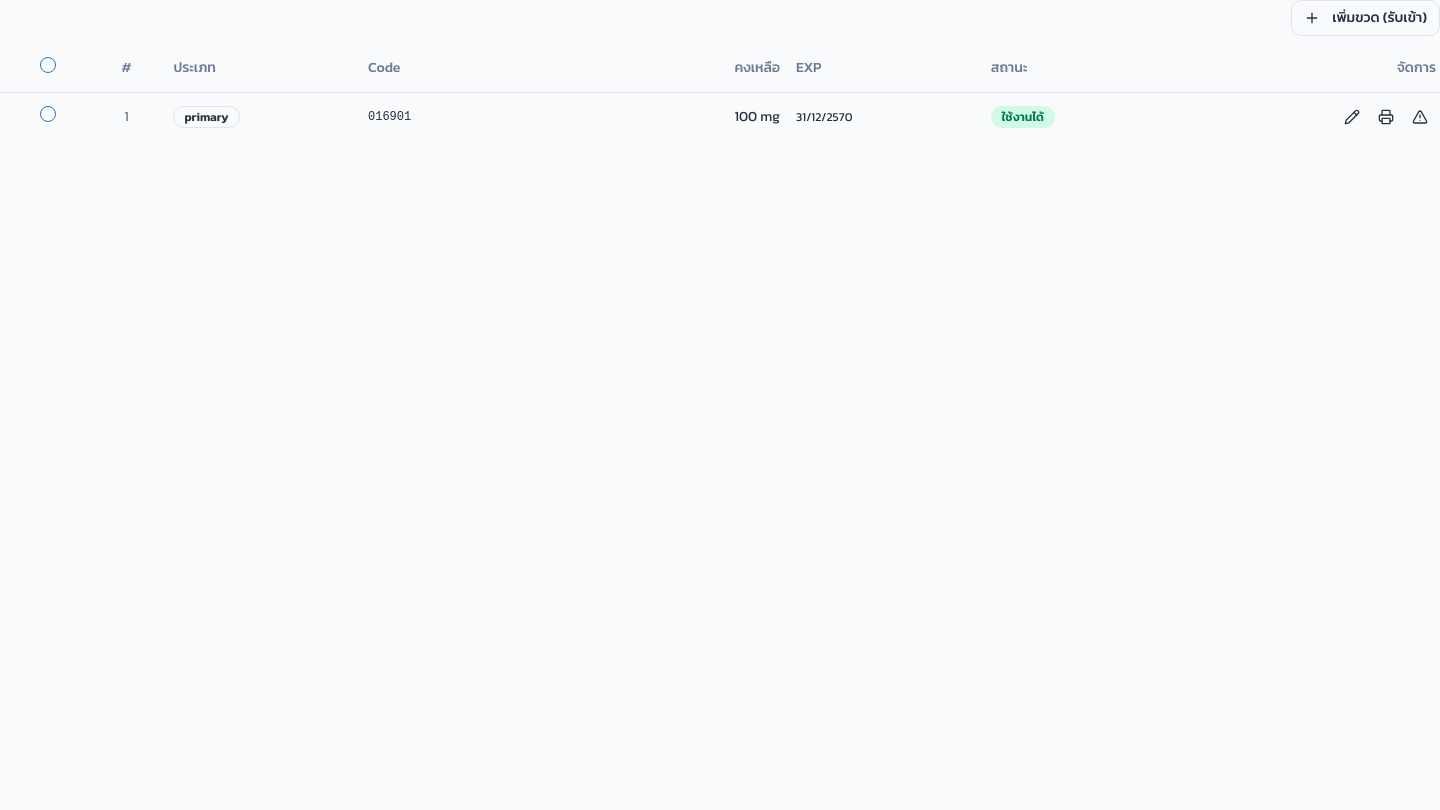
it: StandardUnitsPanel bulk actions › shows mg volume fields with two decimals and 0.01 step in the bottle dialog
Expected: the text "016901" is shown, [368, 110, 411, 124]
Click the button named "แก้ไขข้อมูล".
click(1352, 116)  # box [1336, 100, 1368, 132]
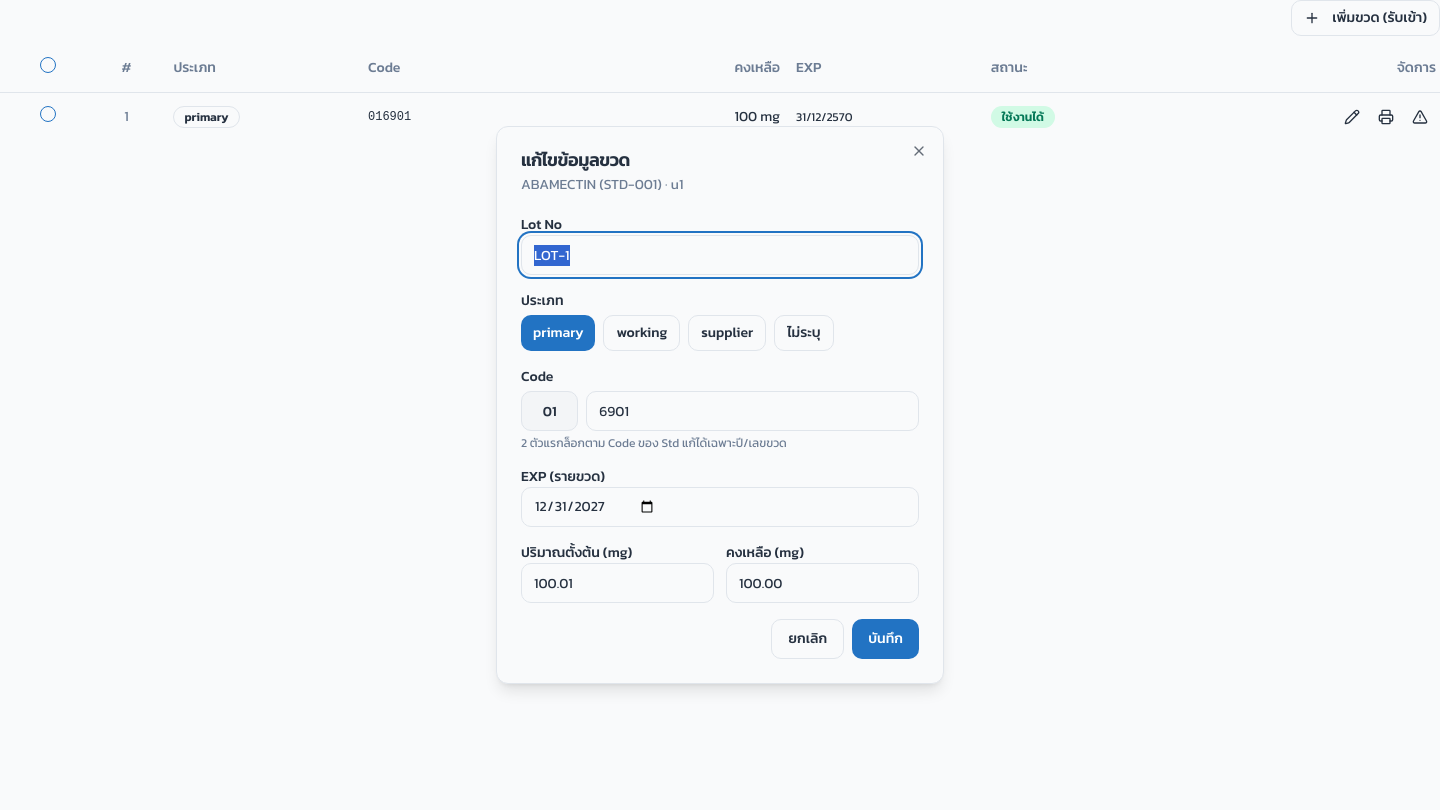
Expected: the number field below "ปริมาณตั้งต้น (" holds "100.01", [521, 563, 714, 603]
Expected: the number field below "คงเหลือ (" holds "100.00"
Replace the text in the number field below "คงเหลือ (" with "99.9" at (822, 583), box [726, 563, 919, 603]
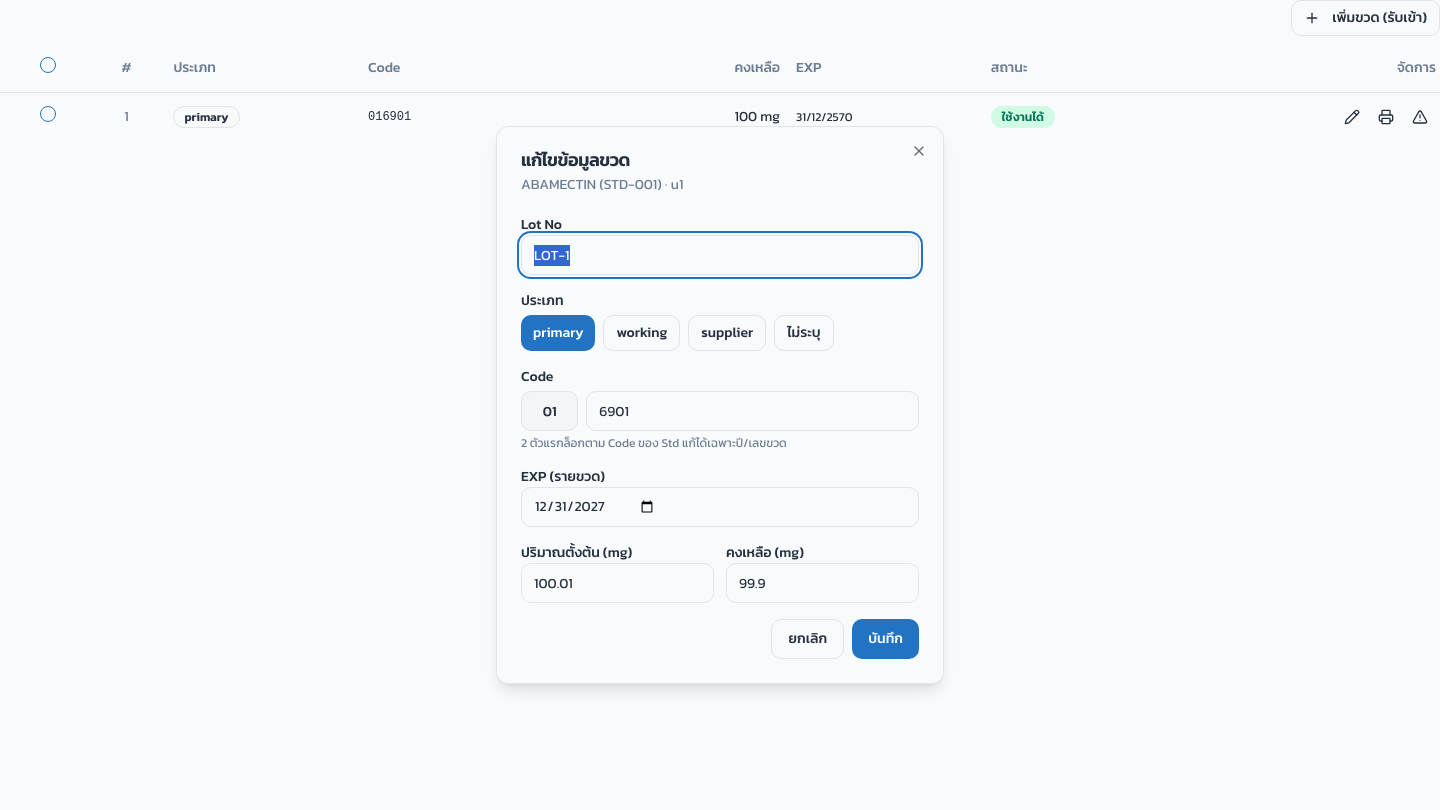
Leave the number field below "คงเหลือ (", box [726, 563, 919, 603]
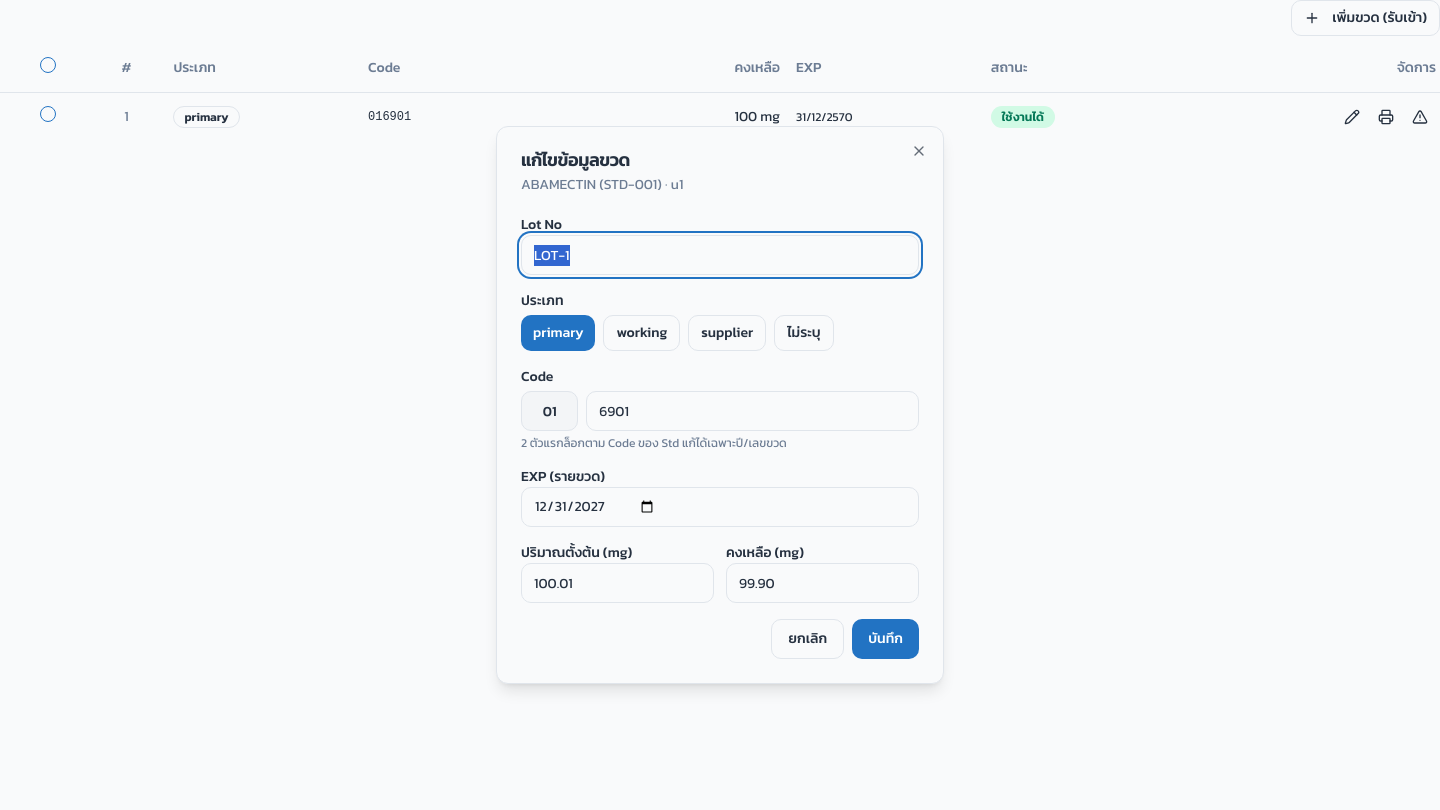
Expected: the number field below "คงเหลือ (" holds "99.90", [726, 563, 919, 603]
